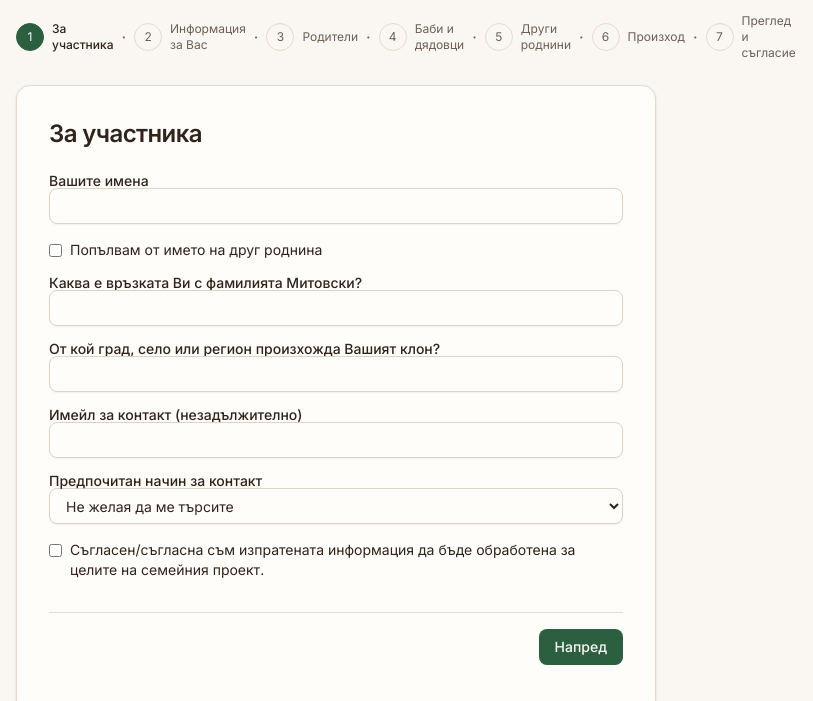
it: step 2 UX (filling for yourself) › prefills your names from step 1 and never asks a living person for a death year
This screenshot has width=813, height=701.
In the field labelled "Вашите имена": (336,206) [49,188,623,224], type "Иван Петров Тестов"
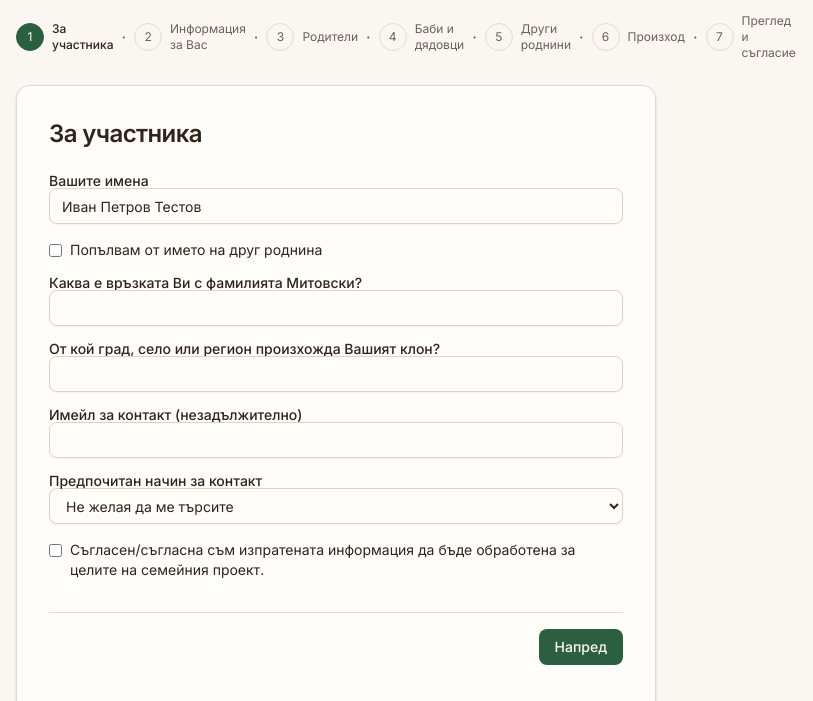
In the field labelled "Каква е връзката Ви с фамилията Митовски?": (336,308) [49,290,623,326], type "внук"
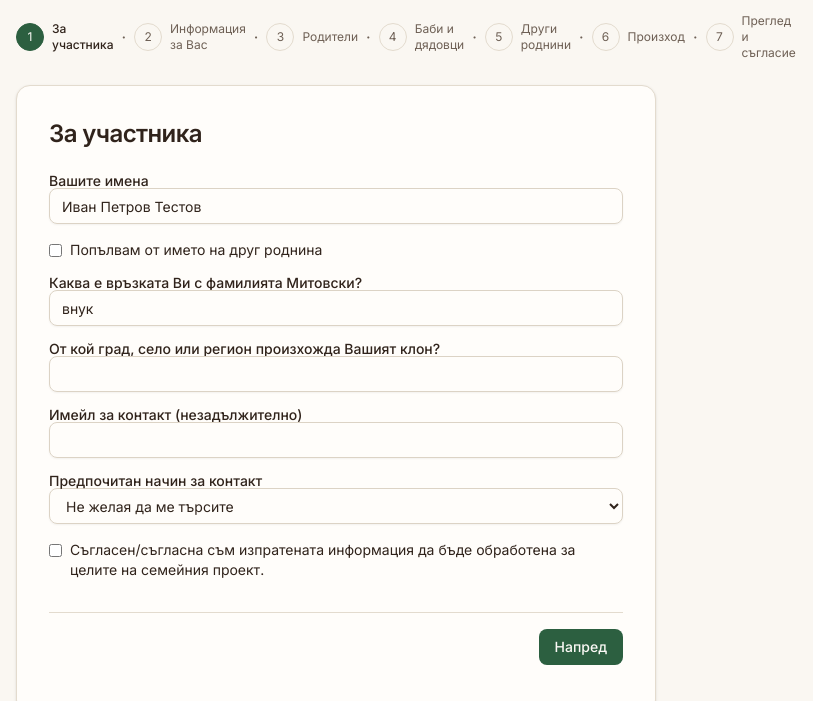
Click the checkbox labelled "Съгласен/съгласна съм изпратената информация": (56,550) [49,544,62,557]
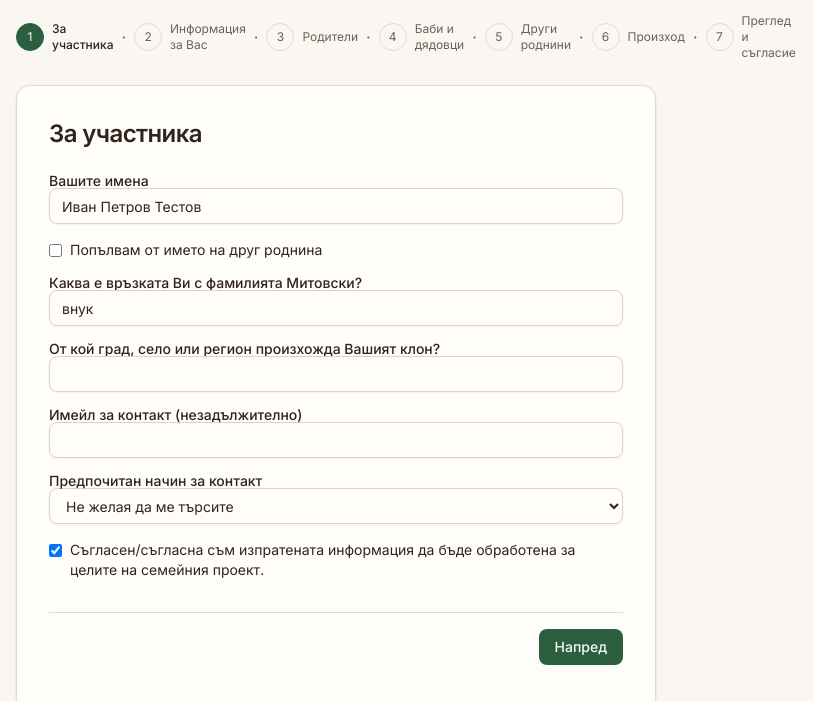
Click the button "Напред": (581,647) [539,629,623,665]
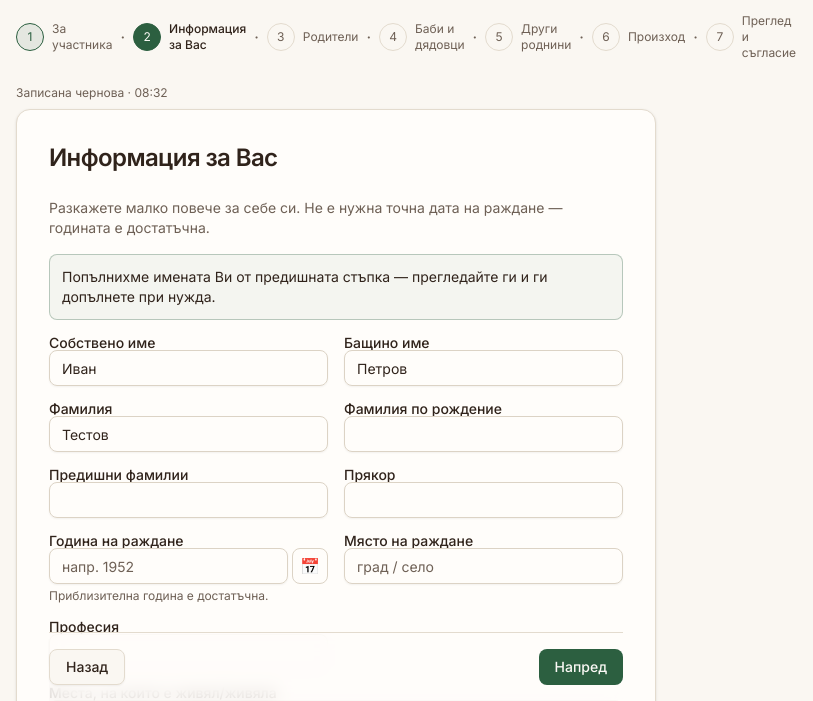
Result: the heading "Информация за Вас" is shown at [49,143,278,172]
Result: the field labelled "Собствено име" holds "Иван" at [49,350,328,386]
Result: the field labelled "Бащино име" holds "Петров" at [344,350,623,386]
